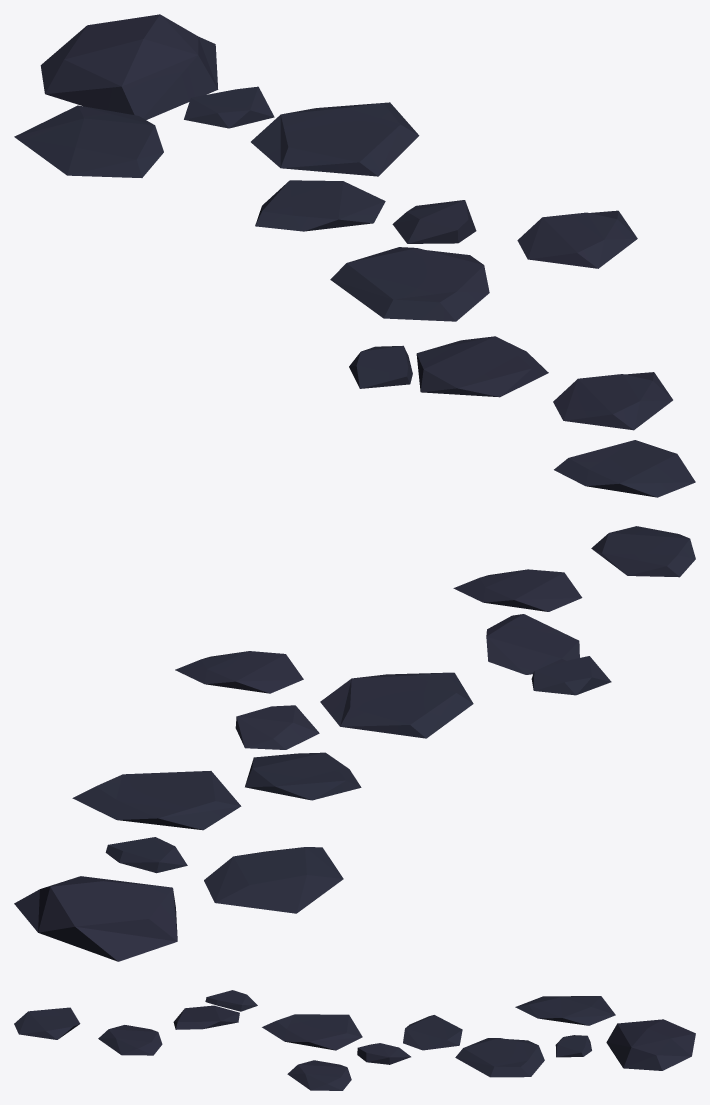
File: mod_BG_rockPath01.fbx
3 views of the same model, one above another, from view 1: azimuth 30°, elevation 25°; view 2: azimuth 150°, elevation 25°; view 3: azimuth 270°, elevation 25° (orthographic). The views are drawn at different scales.
Visible parts, largest first — view 1: RockPath; view 2: RockPath; view 3: RockPath.
Part boxes in pixels (x1=…): RockPath: x1=14, y1=14, x2=695, y2=497; RockPath: x1=14, y1=526, x2=695, y2=961; RockPath: x1=14, y1=990, x2=695, y2=1090.
Size of the model in its own units: 238 by 28.95 by 687.
